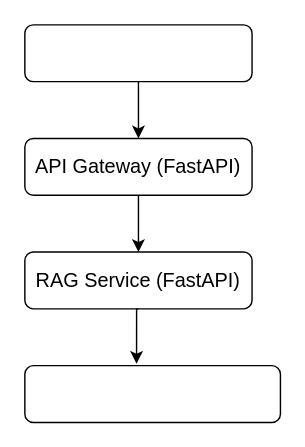
This 305x447 diagram has some shape labels left out. Here are the shapes that lost their labels. From the top down, the box of each, then its label:
(23, 23, 252, 82): User
(23, 364, 280, 422): Azure OpenAI / Vector DB
